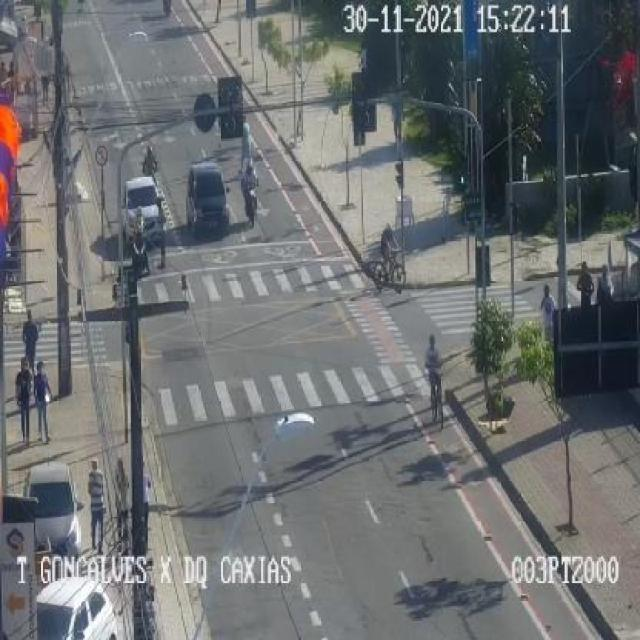Car: (28, 572, 123, 640), (16, 453, 81, 550), (117, 177, 165, 246)
Cycle: (362, 248, 410, 293), (241, 183, 264, 227)
Van: (186, 164, 228, 236)
